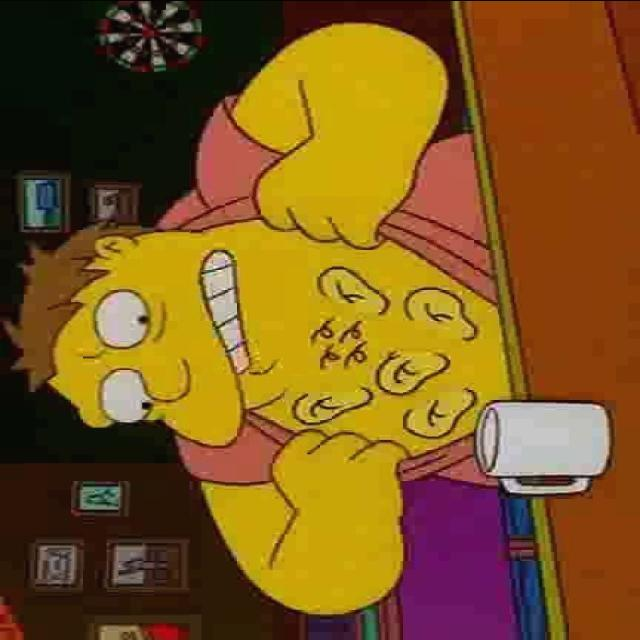Barney Gumble: (3, 218, 290, 449)
